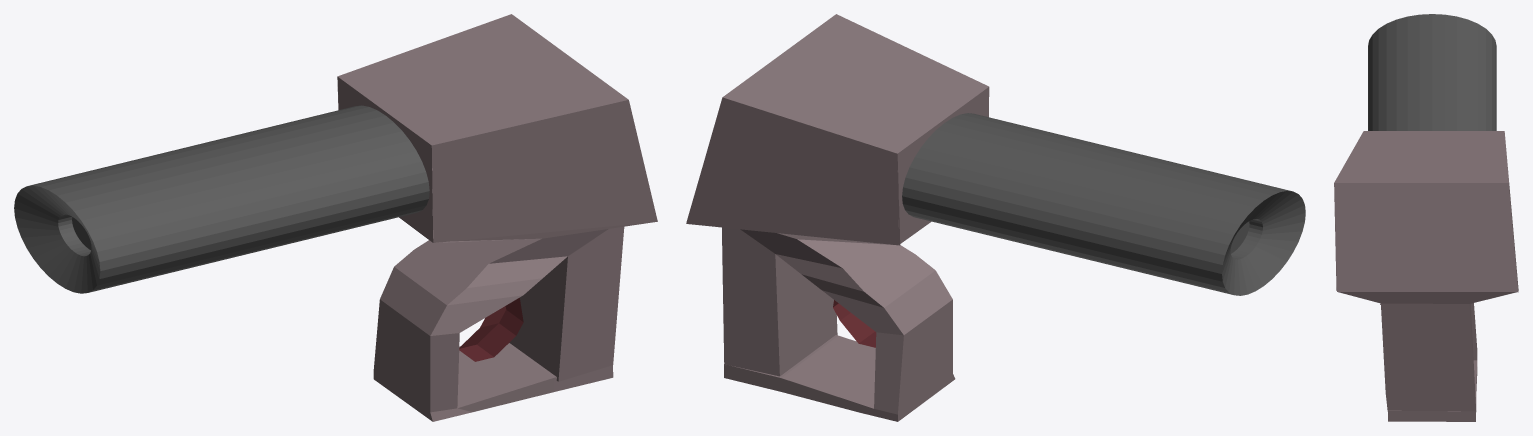
Rendered from Gun.fbx.
3 renders of one model, left to right at view 1: azimuth 30°, elevation 25°; view 2: azimuth 150°, elevation 25°; view 3: azimuth 270°, elevation 25°, orthographic. The views are drawn at different scales.
Visible parts, largest first — view 1: Cube.001; view 2: Cube.001; view 3: Cube.001.
Boxes of the visible parts, x1,y1,x2,y2 form: Cube.001: [14, 14, 657, 421]; Cube.001: [686, 14, 1305, 421]; Cube.001: [1334, 14, 1518, 421].
Size of the model in its own units: 467 by 259 by 187.
